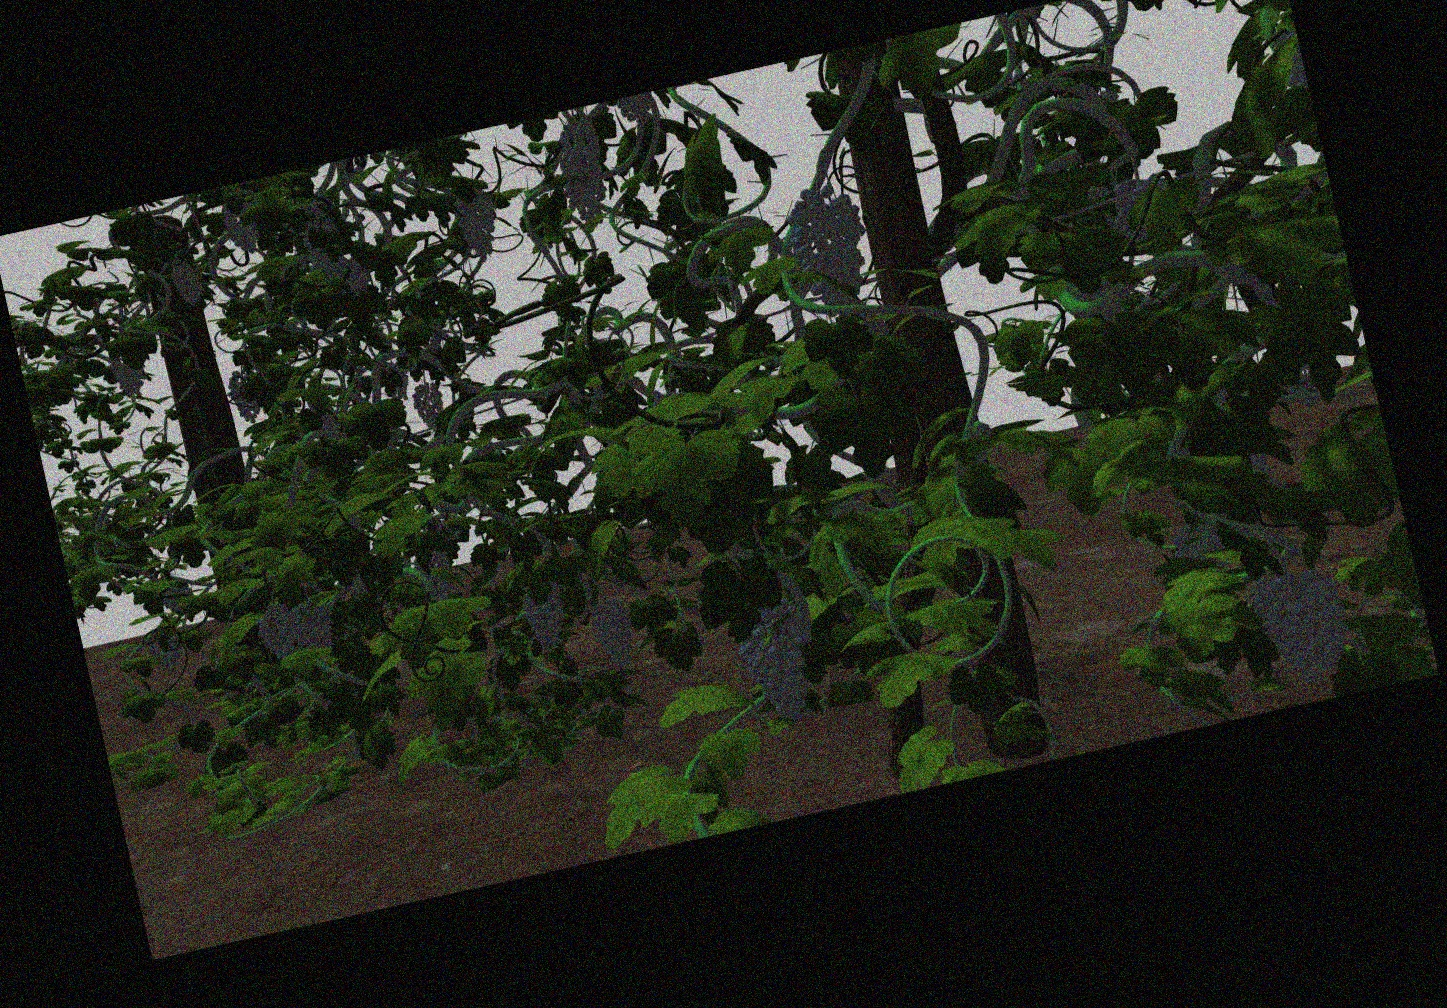grape: (1255, 565, 1348, 682), (791, 182, 868, 317), (744, 603, 818, 725), (557, 118, 606, 222), (454, 185, 499, 261), (590, 596, 636, 671), (524, 583, 566, 654), (292, 598, 336, 660), (258, 599, 296, 664), (223, 191, 259, 256), (172, 253, 205, 308), (413, 380, 445, 433), (229, 370, 258, 427), (112, 347, 144, 398), (147, 628, 180, 674)
